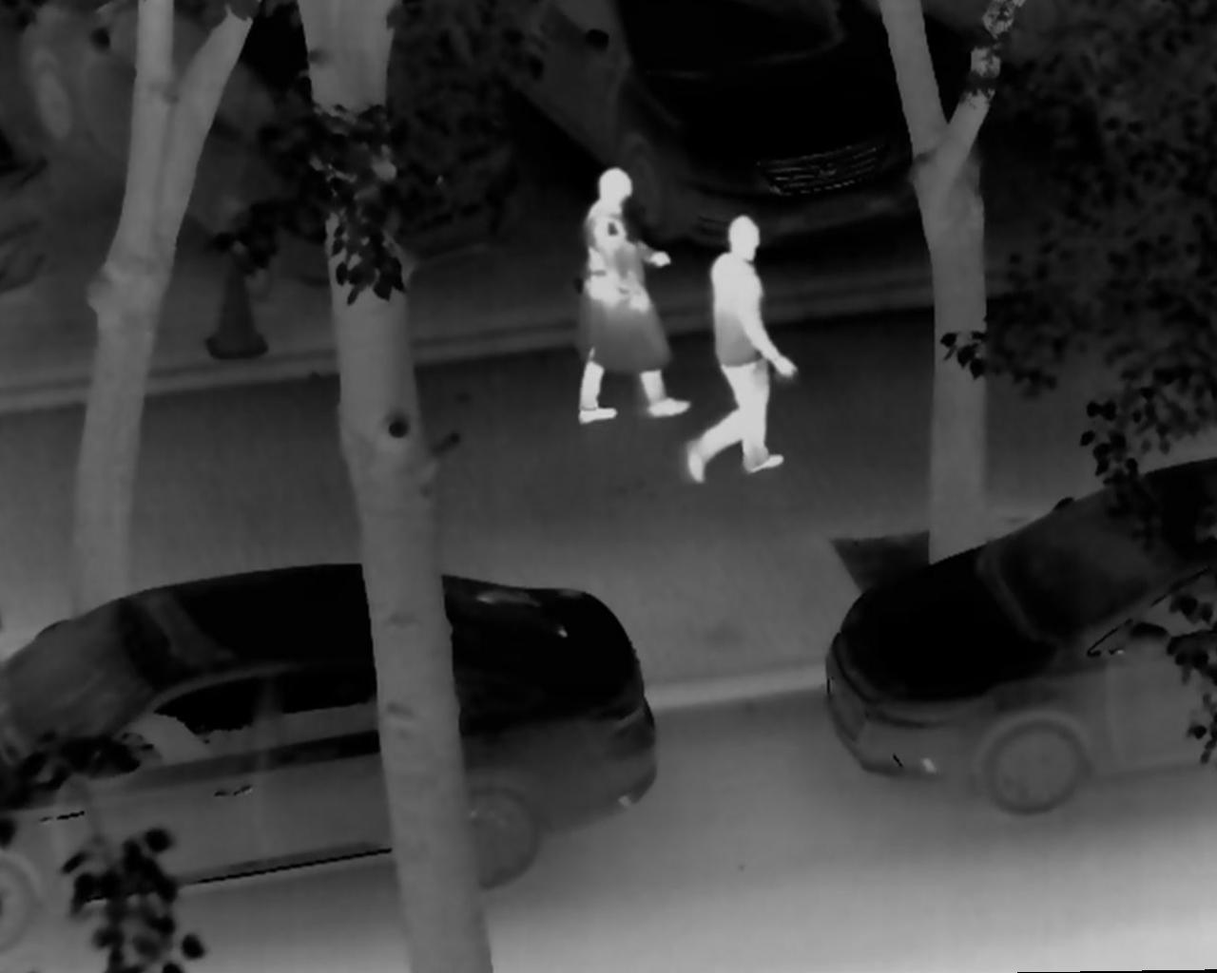person: (566, 164, 691, 425), (680, 213, 798, 484)
